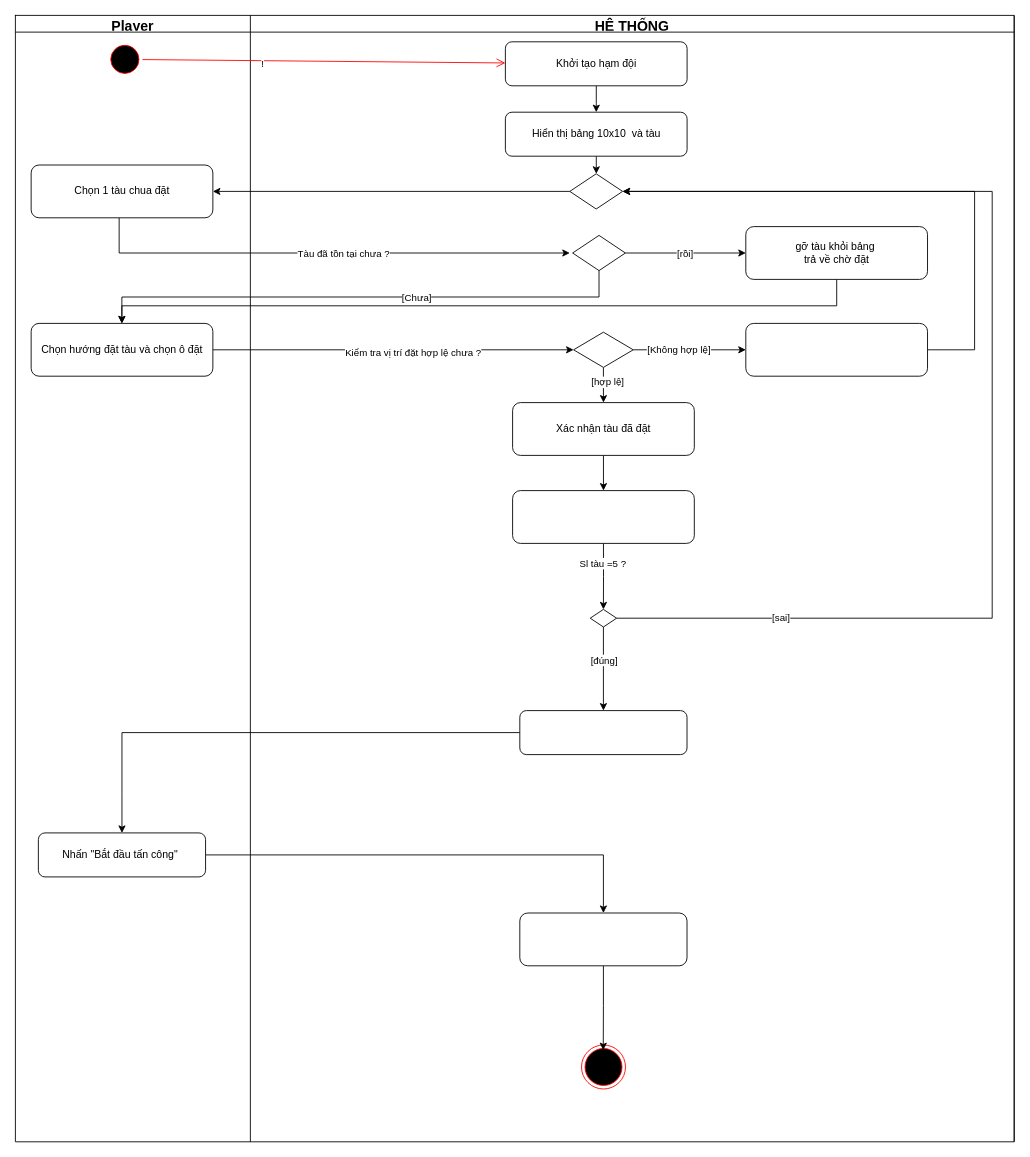
Image size: 1030x1157. Some labels were removed from this diagram. The shapes that lost their labels are listed below. From the top down, each one's centre as x and y in pixels, then its label:
the point at 836,349: Thông báo tàu đã tồn tại hoặc vị trí không hợp lệ (2.E.1)
the point at 603,516: cập nhật tàu còn lại
the point at 603,732: Kích hoạt nút "Bắt đầu tấn công"
the point at 603,939: Chuyển sang giai đoạn tấn công UC-03
